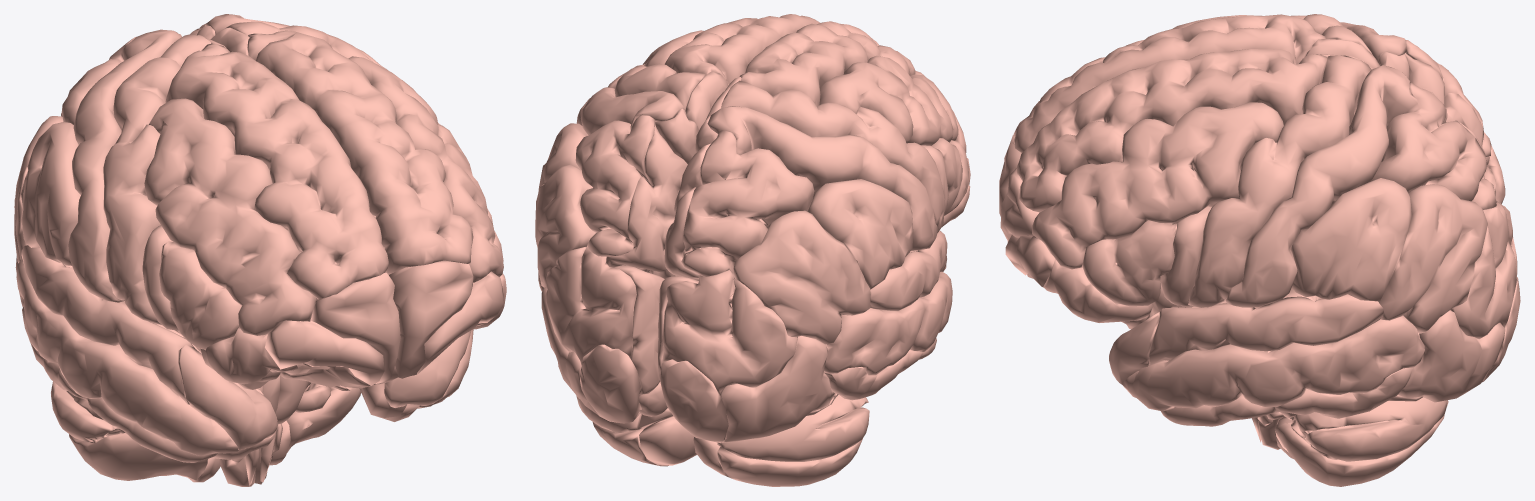
Rendered from allen_f_brain-20.glb.
3 renders of one model, left to right at view 1: azimuth 30°, elevation 25°; view 2: azimuth 150°, elevation 25°; view 3: azimuth 270°, elevation 25°, orthographic. The views are drawn at different scales.
Visible parts, largest first — view 1: Allen_superior_frontal_gyrus_L, Allen_middle_frontal_gyrus_L, Allen_superior_frontal_gyrus_R, Allen_middle_temporal_gyrus_L, Allen_precentral_gyrus_L, Allen_postcentral_gyrus_L, Allen_superior_temporal_gyrus_L, Allen_middle_frontal_gyrus_R, Allen_supramarginal_gyrus_L, Allen_rostral_gyrus_R, Allen_lateral_hemisphere_of_cerebellum_L, Allen_inferior_frontal_gyrus_triangular_part_L (+19 smaller); view 2: Allen_supraparietal_lobule_L, Allen_angular_gyrus_L, Allen_superior_occipital_gyrus_L, Allen_postcentral_gyrus_L, Allen_lateral_hemisphere_of_cerebellum_L, Allen_superior_occipital_gyrus_R, Allen_supraparietal_lobule_R, Allen_precentral_gyrus_L, Allen_supramarginal_gyrus_L, Allen_middle_frontal_gyrus_L, Allen_superior_frontal_gyrus_L, Allen_middle_temporal_gyrus_L (+24 smaller); view 3: Allen_middle_frontal_gyrus_R, Allen_superior_frontal_gyrus_R, Allen_middle_temporal_gyrus_R, Allen_precentral_gyrus_R, Allen_postcentral_gyrus_R, Allen_supramarginal_gyrus_R, Allen_angular_gyrus_R, Allen_superior_temporal_gyrus_R, Allen_lateral_hemisphere_of_cerebellum_R, Allen_superior_frontal_gyrus_L, Allen_supraparietal_lobule_R, Allen_inferior_frontal_gyrus_triangular_part_R (+16 smaller).
Part boxes in pixels (x1,y1,x2,y2): Allen_superior_frontal_gyrus_L: [165, 43, 388, 300]; Allen_middle_frontal_gyrus_L: [144, 98, 316, 335]; Allen_superior_frontal_gyrus_R: [247, 30, 473, 273]; Allen_middle_temporal_gyrus_L: [16, 260, 238, 455]; Allen_precentral_gyrus_L: [103, 34, 210, 324]; Allen_postcentral_gyrus_L: [68, 29, 181, 302]; Allen_superior_temporal_gyrus_L: [21, 245, 194, 404]; Allen_middle_frontal_gyrus_R: [348, 56, 503, 282]; Allen_supramarginal_gyrus_L: [21, 122, 80, 265]; Allen_rostral_gyrus_R: [389, 260, 473, 378]; Allen_lateral_hemisphere_of_cerebellum_L: [51, 381, 207, 480]; Allen_inferior_frontal_gyrus_triangular_part_L: [159, 241, 241, 350]; Allen_supraparietal_lobule_L: [681, 130, 814, 276]; Allen_angular_gyrus_L: [733, 210, 870, 344]; Allen_superior_occipital_gyrus_L: [662, 270, 797, 394]; Allen_postcentral_gyrus_L: [707, 106, 938, 251]; Allen_lateral_hemisphere_of_cerebellum_L: [717, 394, 869, 486]; Allen_superior_occipital_gyrus_R: [546, 245, 636, 365]; Allen_supraparietal_lobule_R: [575, 114, 654, 256]; Allen_precentral_gyrus_L: [721, 80, 944, 232]; Allen_supramarginal_gyrus_L: [807, 179, 913, 289]; Allen_middle_frontal_gyrus_L: [819, 55, 966, 152]; Allen_superior_frontal_gyrus_L: [739, 21, 925, 106]; Allen_middle_temporal_gyrus_L: [824, 271, 952, 375]; Allen_middle_frontal_gyrus_R: [1032, 102, 1283, 269]; Allen_superior_frontal_gyrus_R: [1016, 49, 1327, 212]; Allen_middle_temporal_gyrus_R: [1122, 315, 1424, 411]; Allen_precentral_gyrus_R: [1188, 55, 1371, 307]; Allen_postcentral_gyrus_R: [1224, 65, 1419, 307]; Allen_supramarginal_gyrus_R: [1290, 178, 1411, 301]; Allen_angular_gyrus_R: [1378, 184, 1487, 333]; Allen_superior_temporal_gyrus_R: [1148, 294, 1383, 365]; Allen_lateral_hemisphere_of_cerebellum_R: [1266, 397, 1448, 486]; Allen_superior_frontal_gyrus_L: [1013, 14, 1325, 152]; Allen_supraparietal_lobule_R: [1370, 82, 1496, 209]; Allen_inferior_frontal_gyrus_triangular_part_R: [1082, 220, 1176, 306].
Bounding box in the file's own units: 0.1361 × 0.1457 × 0.1668.
